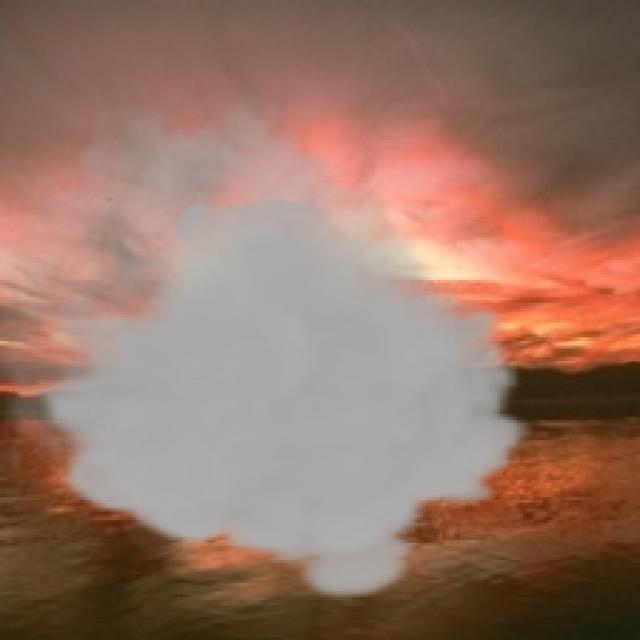smoke: (0, 88, 532, 603)
